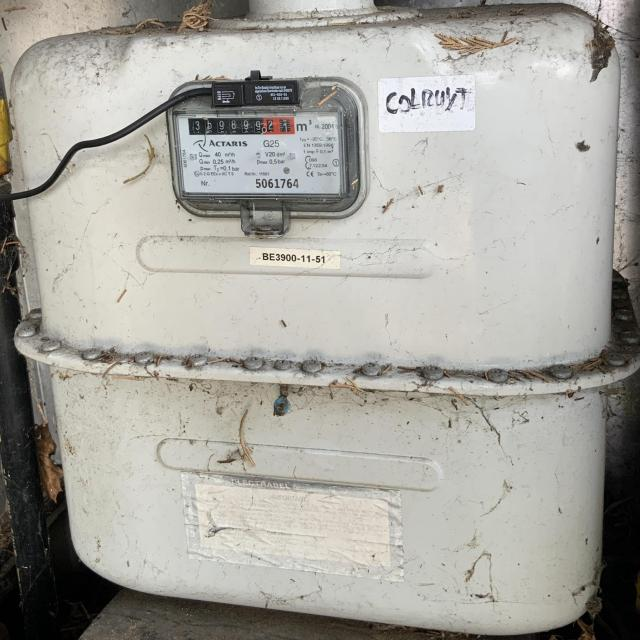gaz_meter: (171, 91, 352, 204)
indication: (190, 117, 295, 135)
